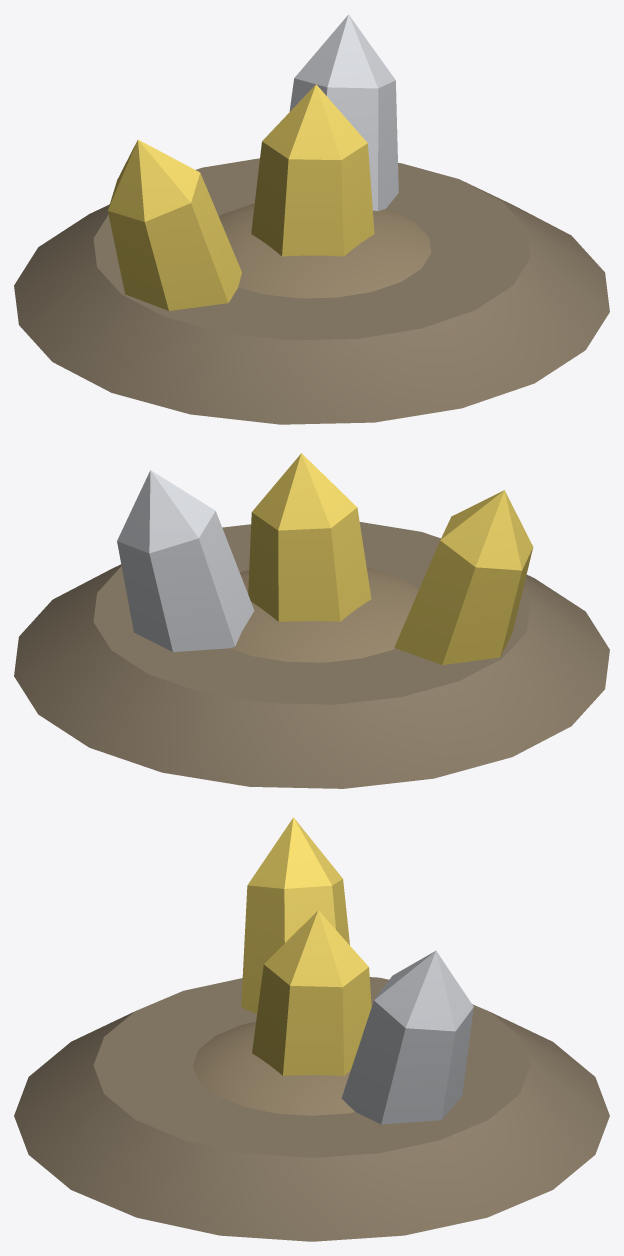
File: ore_stage_1.glb
3 renders of one model, top to bottom at view 1: azimuth 30°, elevation 25°; view 2: azimuth 150°, elevation 25°; view 3: azimuth 270°, elevation 25°, orthographic.
Parts seen in each view (by area): view 1: Hull; view 2: Hull; view 3: Hull.
Boxes of the visible parts, x1,y1,x2,y2 form: Hull: [14, 14, 609, 424]; Hull: [14, 453, 609, 788]; Hull: [14, 817, 609, 1241].
Size of what is drawn, in the model's own units: 0.6 by 0.2371 by 0.6.
